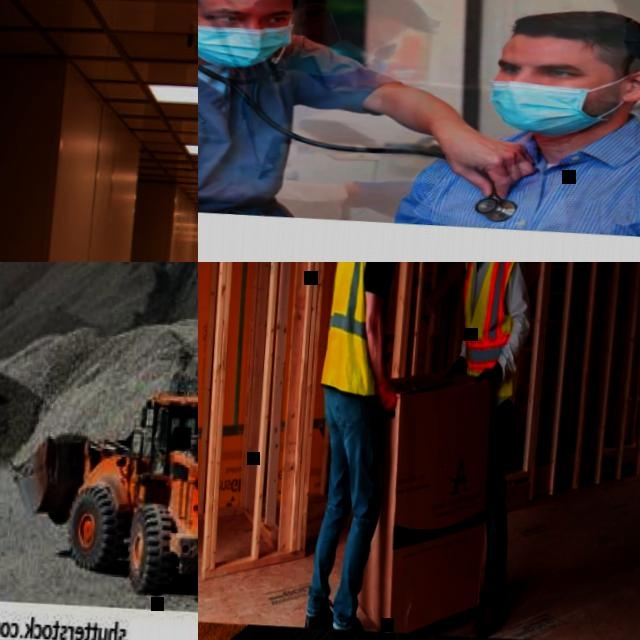Mask: (488, 77, 594, 142), (198, 20, 287, 68), (291, 36, 388, 79), (622, 20, 640, 71)
NO-Hardhat: (503, 3, 640, 69), (281, 0, 441, 29), (300, 118, 390, 144)
Person: (198, 0, 534, 234), (406, 0, 640, 253), (427, 262, 544, 638), (302, 262, 418, 632), (276, 0, 440, 69), (608, 0, 640, 64), (170, 415, 194, 453)
Safety Vest: (455, 262, 532, 399), (319, 262, 399, 392)
machinery: (0, 361, 198, 608)
